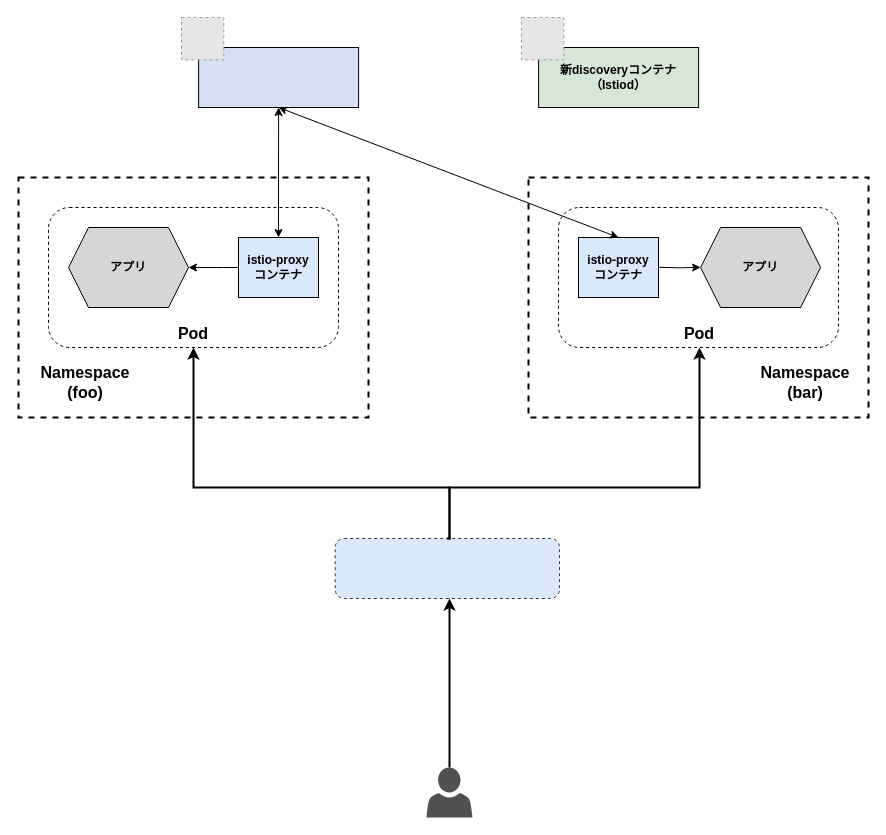
Some shapes in this 886 by 835 pixel diagram are drawn without their labels. Grey dashed boxes stand in for pictures. The box of each missing label's shape, as (x1, y1, x2, y2) in pixels:
Pod (IngressGateway): (334, 538, 560, 598)
旧discoveryコンテナ （Istiod）: (198, 46, 359, 108)
